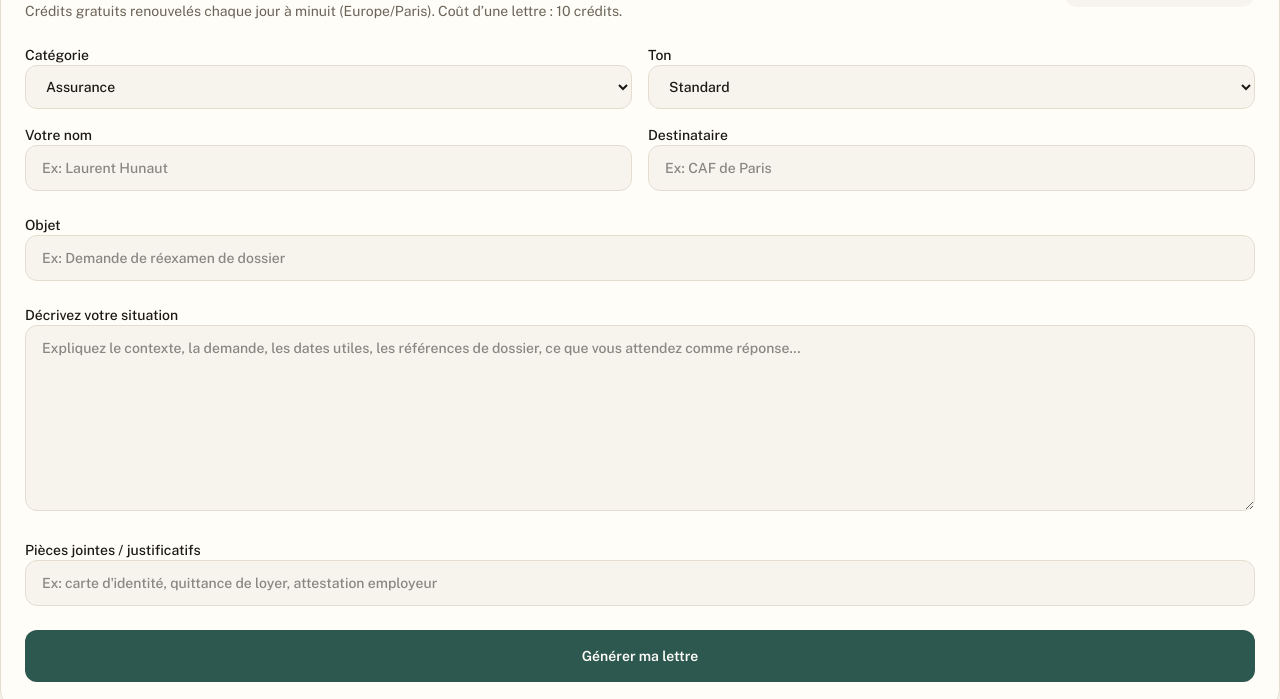
Test: GeneratorForm › affiche une erreur si la situation est vide
(page scrolled)
Click the button "Générer ma lettre" at (640, 656), box [25,630,1255,682]
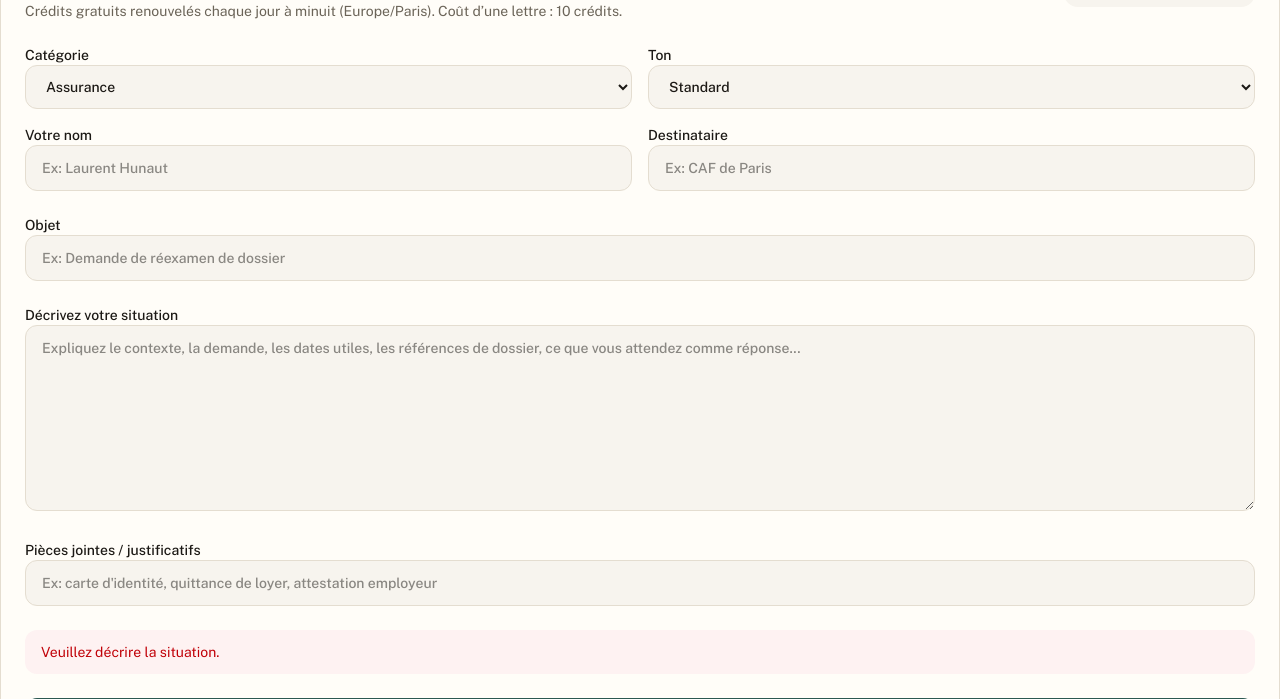
Check: the text "Veuillez décrire la situation." is shown, box [25,630,1255,674]
